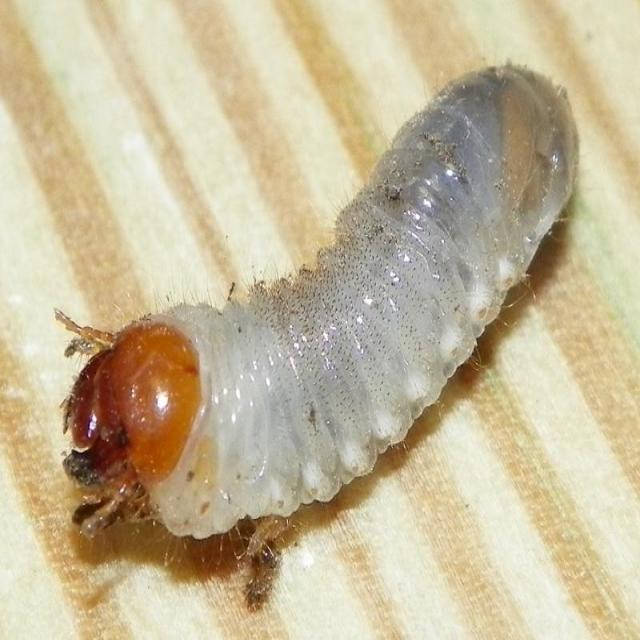Grub-Adult-: (32, 59, 590, 599)
